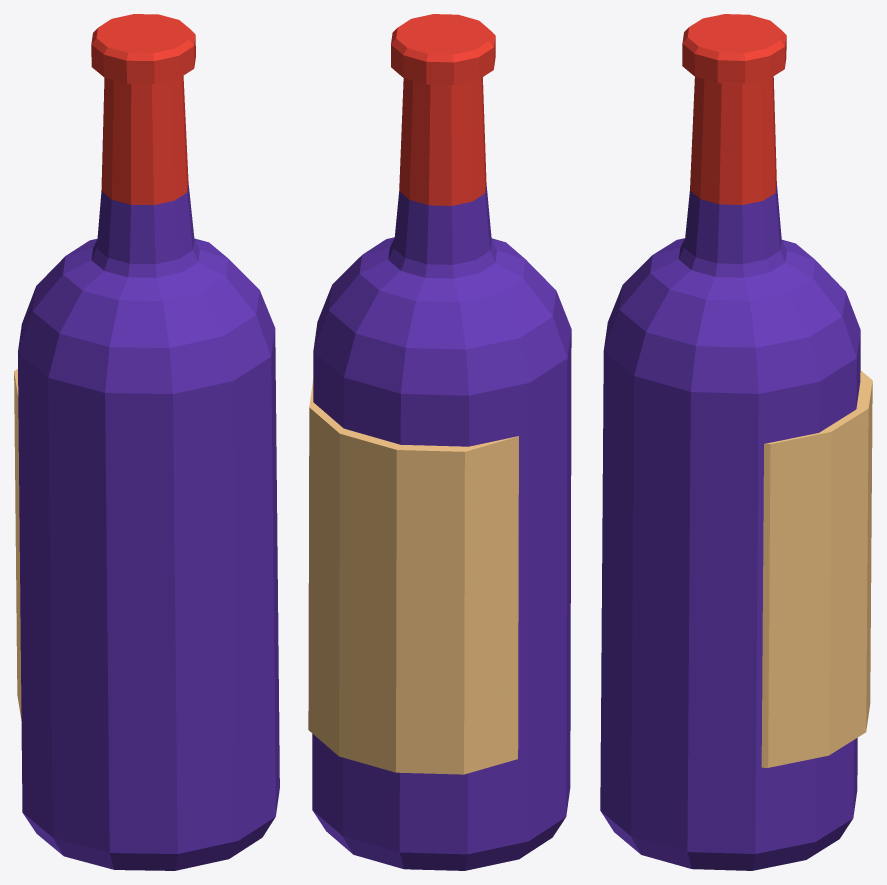
Rendered from wine-bottle-by-dook-c4YeZgaAbhD.glb.
The picture shows the model from 3 angles, left to right: view 1: azimuth 30°, elevation 25°; view 2: azimuth 150°, elevation 25°; view 3: azimuth 270°, elevation 25°; orthographic projection.
Parts seen in each view (by area): view 1: group1080304512; view 2: group1080304512; view 3: group1080304512.
Part boxes in pixels (x1,y1,x2,y2): group1080304512: (14, 14, 279, 870); group1080304512: (308, 14, 571, 870); group1080304512: (600, 14, 872, 870).
Bounding box in the file's own units: 0.4168 × 1.4 × 0.4359.
